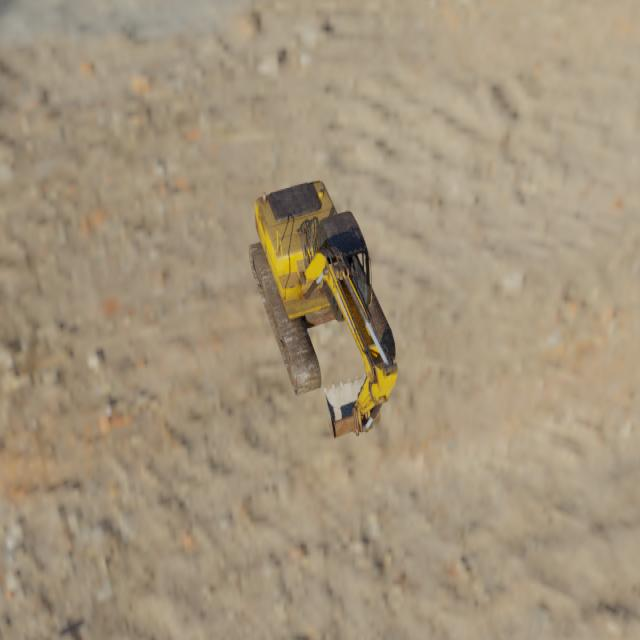excavator: (248, 178, 398, 438)
